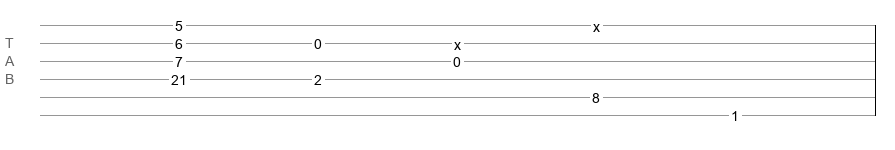0: (314, 36, 322, 46), (453, 54, 461, 64)
1: (731, 108, 739, 118)
2: (314, 72, 322, 82)
21: (171, 72, 187, 82)
5: (175, 18, 183, 28)
6: (175, 36, 183, 46)
7: (175, 54, 183, 64)
8: (592, 90, 600, 100)
x: (454, 37, 461, 45), (593, 19, 600, 27)
